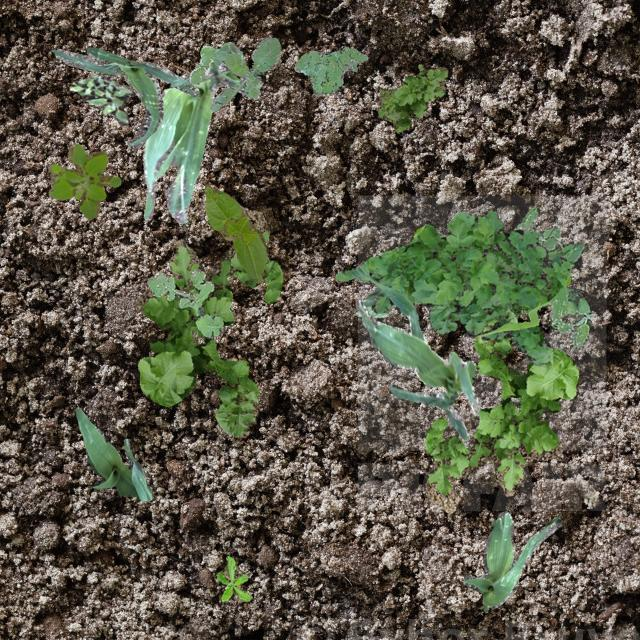crop: (354, 298, 480, 439), (142, 64, 248, 222), (50, 45, 198, 148), (460, 509, 560, 612), (74, 406, 152, 500), (204, 186, 266, 282), (354, 286, 394, 316)
weed: (334, 208, 568, 364), (134, 205, 282, 438), (423, 306, 578, 512), (512, 206, 592, 350), (188, 36, 280, 110), (48, 142, 120, 218), (146, 268, 222, 338), (376, 62, 446, 130), (294, 46, 366, 94), (68, 74, 132, 124), (216, 554, 250, 600)
